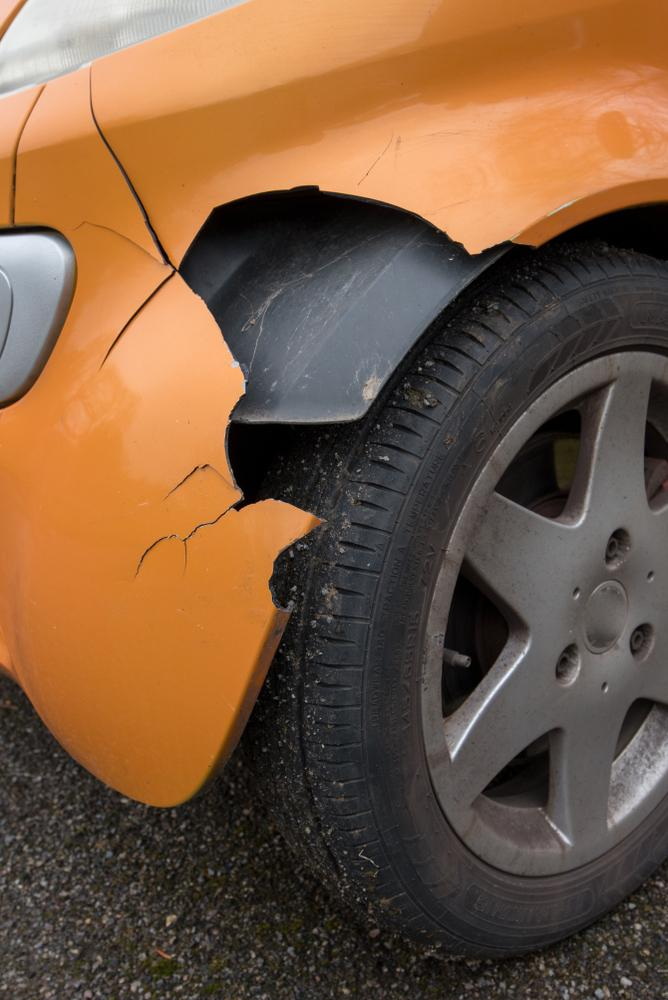crack: (71, 64, 178, 374), (130, 463, 252, 584), (357, 125, 395, 186)
